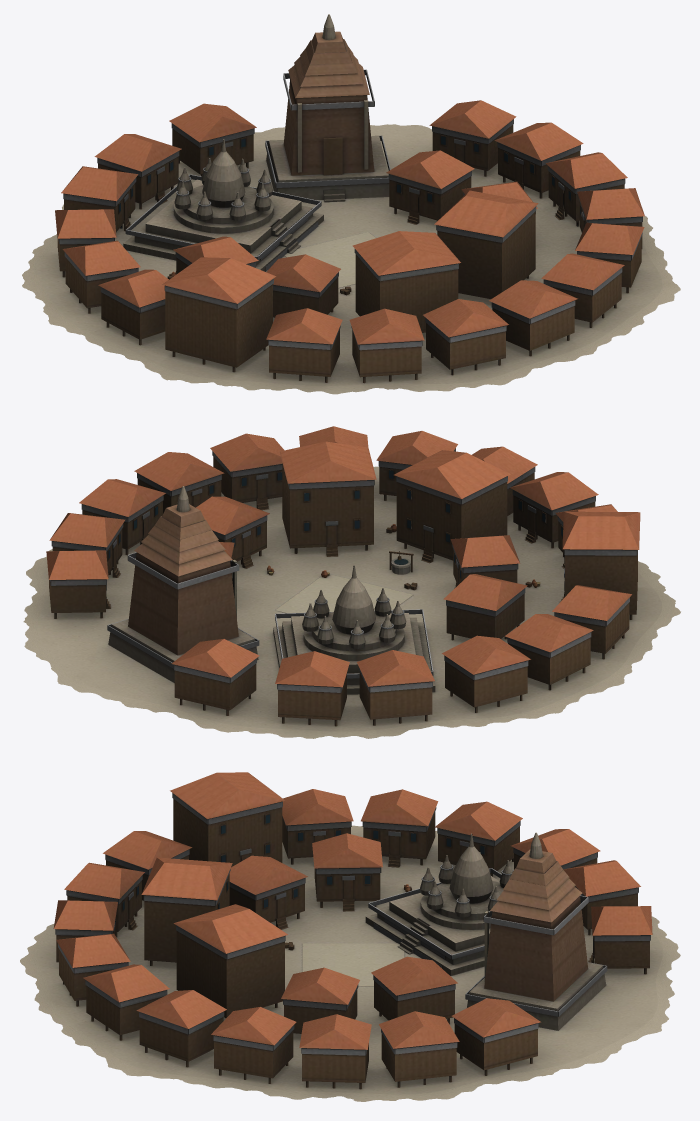
Rendered from classical-town-big-b-monsoon.glb.
The picture shows the model from 3 angles, top to bottom: view 1: azimuth 30°, elevation 25°; view 2: azimuth 150°, elevation 25°; view 3: azimuth 270°, elevation 25°; orthographic projection.
Visible parts, largest first — view 1: LOD0; view 2: LOD0; view 3: LOD0.
Boxes of the visible parts, box(x1,y1,x2,y2) form: LOD0: box(22, 14, 680, 394); LOD0: box(23, 426, 680, 738); LOD0: box(20, 772, 680, 1101).
Size of what is drawn, in the model's own units: 7.94 by 2.2 by 7.93.
3 materials, 3 textured.
